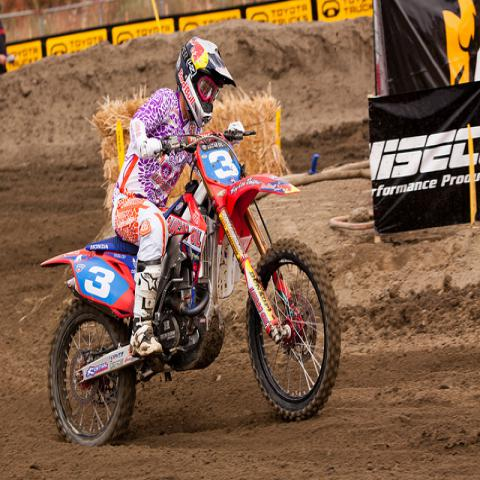motorcycle: (42, 120, 348, 459)
